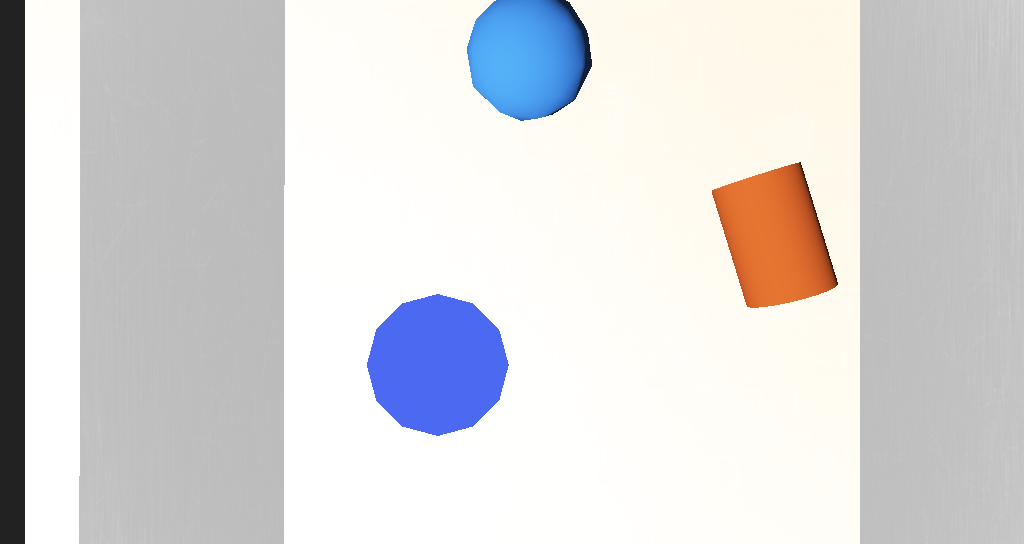cone: (573, 231, 640, 284)
cylinder: (404, 279, 472, 322)
sphere: (455, 167, 515, 215)
